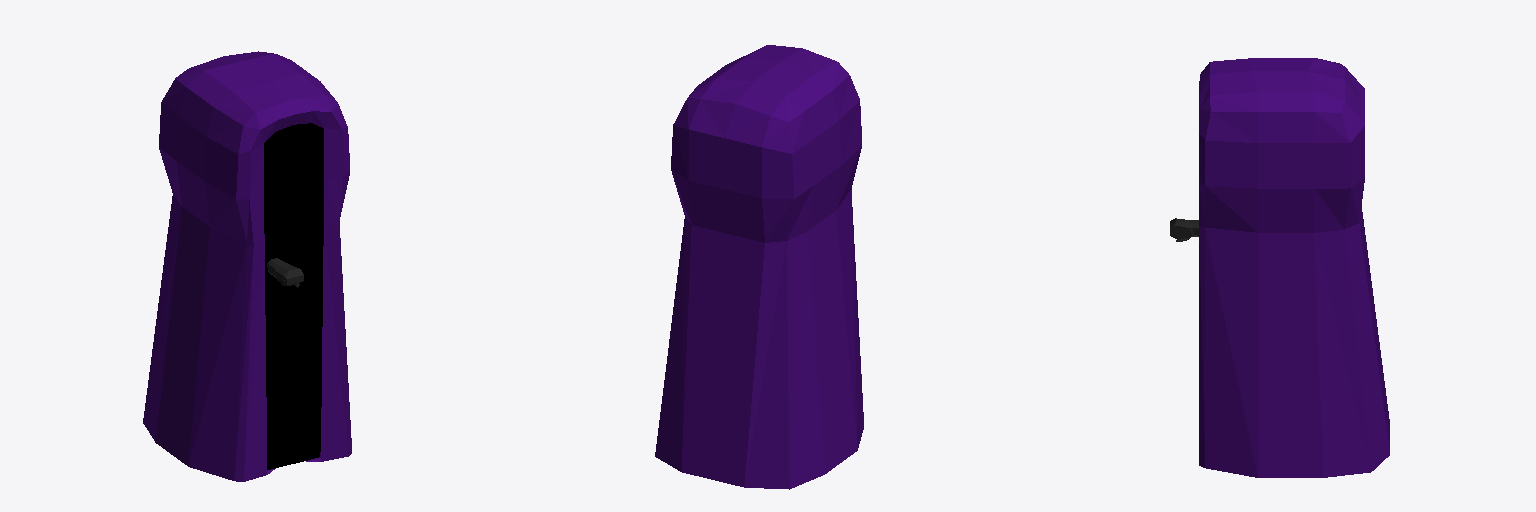
Rendered from char-model.obj.
3 views of the same model, side by side, from view 1: azimuth 30°, elevation 25°; view 2: azimuth 150°, elevation 25°; view 3: azimuth 270°, elevation 25° (orthographic).
Visible parts, largest first — view 1: Cube; view 2: Cube; view 3: Cube.
Part boxes in pixels (bbox=[...]): Cube: bbox=[143, 51, 351, 481]; Cube: bbox=[655, 45, 863, 489]; Cube: bbox=[1170, 58, 1389, 477].
Bounding box in the file's own units: 0.8781 × 1.97 × 1.07.